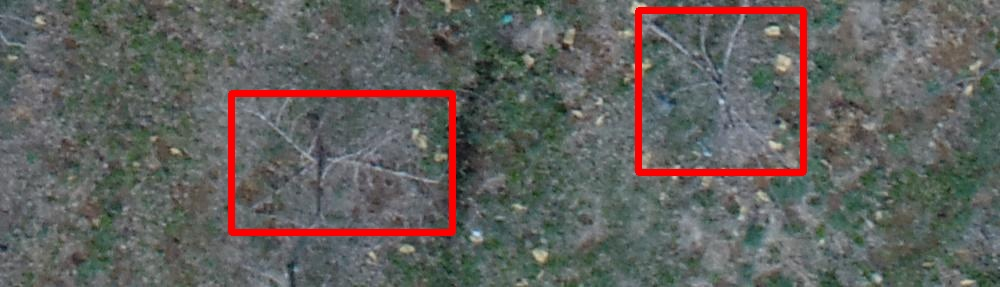apple: (231, 93, 452, 232), (638, 10, 803, 172)
